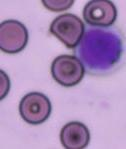L: (74, 24, 124, 74)
